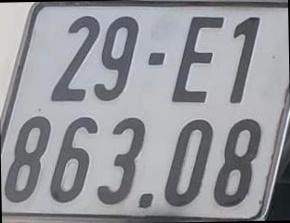-: (147, 49, 167, 70)
.: (135, 191, 155, 209)
0: (162, 120, 213, 209)
1: (228, 15, 261, 106)
2: (49, 15, 99, 102)
3: (99, 115, 144, 208)
6: (50, 115, 98, 204)
8: (210, 115, 262, 208), (3, 115, 50, 204)
9: (95, 14, 141, 103)
E: (169, 12, 226, 106)
